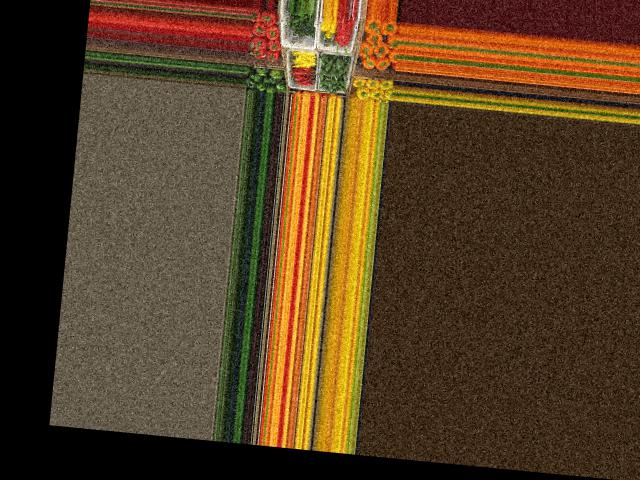bell_pepper: (254, 64, 269, 81)
